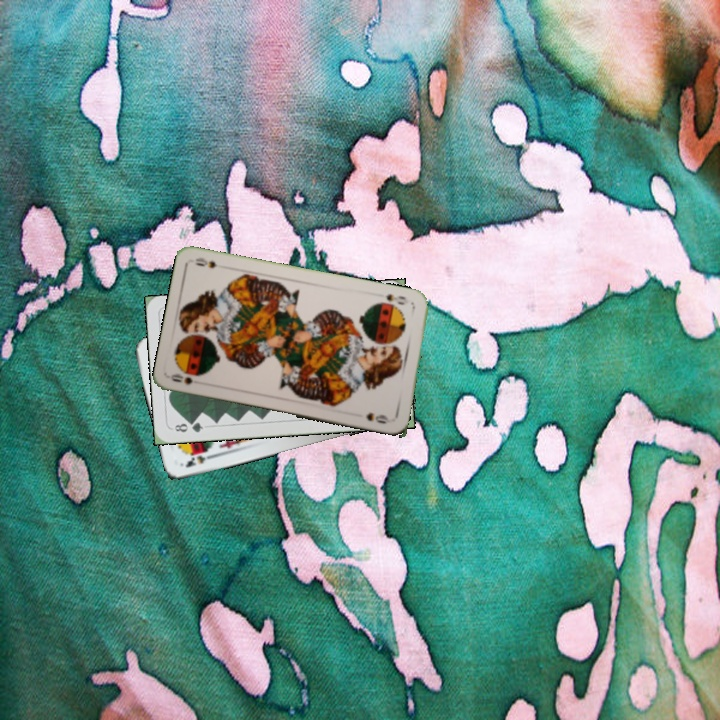G8: (170, 417, 206, 435)
SK: (181, 449, 218, 470)
SO: (167, 369, 196, 387), (381, 290, 408, 307)
